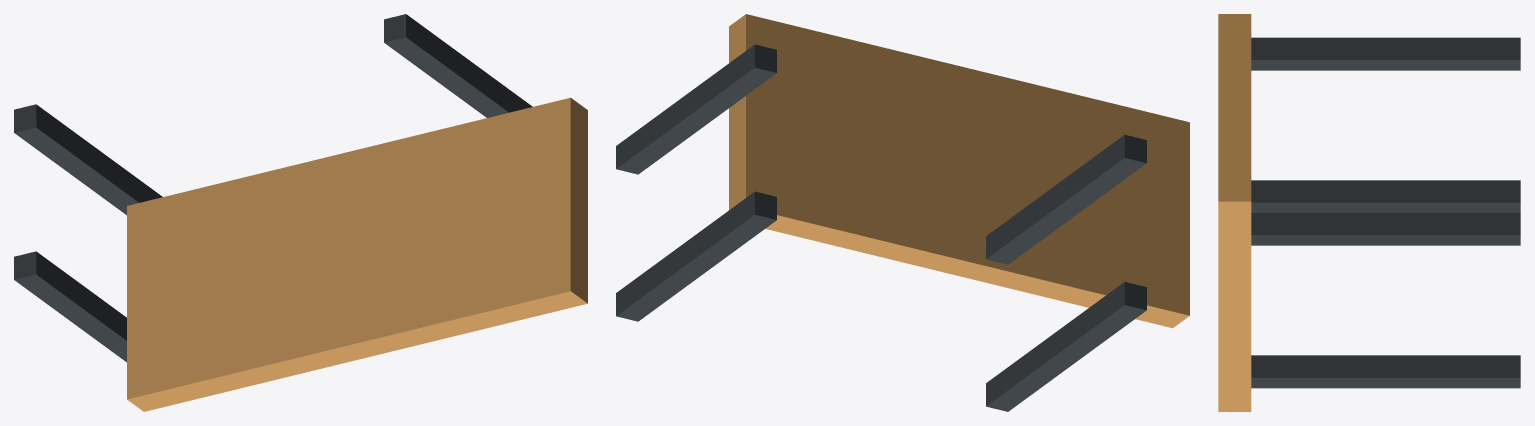
Rendered from desk.glb.
3 renders of one model, left to right at view 1: azimuth 30°, elevation 25°; view 2: azimuth 150°, elevation 25°; view 3: azimuth 270°, elevation 25°, orthographic. The views are drawn at different scales.
Visible parts, largest first — view 1: desk_top, desk_leg_c, desk_leg_d, desk_leg_a; view 2: desk_top, desk_leg_d, desk_leg_b, desk_leg_a, desk_leg_c; view 3: desk_top, desk_leg_b, desk_leg_c, desk_leg_d, desk_leg_a.
Boxes of the visible parts, x1,y1,x2,y2 form: desk_top: (127,97,587,411); desk_leg_c: (14,104,162,215); desk_leg_d: (384,14,532,117); desk_leg_a: (14,251,126,362); desk_top: (729,14,1189,328); desk_leg_d: (616,44,776,174); desk_leg_b: (616,191,776,321); desk_leg_a: (986,282,1146,411); desk_leg_c: (986,135,1146,264); desk_top: (1218,14,1251,411); desk_leg_b: (1251,355,1520,388); desk_leg_c: (1251,37,1520,70); desk_leg_d: (1251,212,1520,245); desk_leg_a: (1251,180,1520,212).
Size of the model in its own units: 2.4 by 1 by 1.46.
